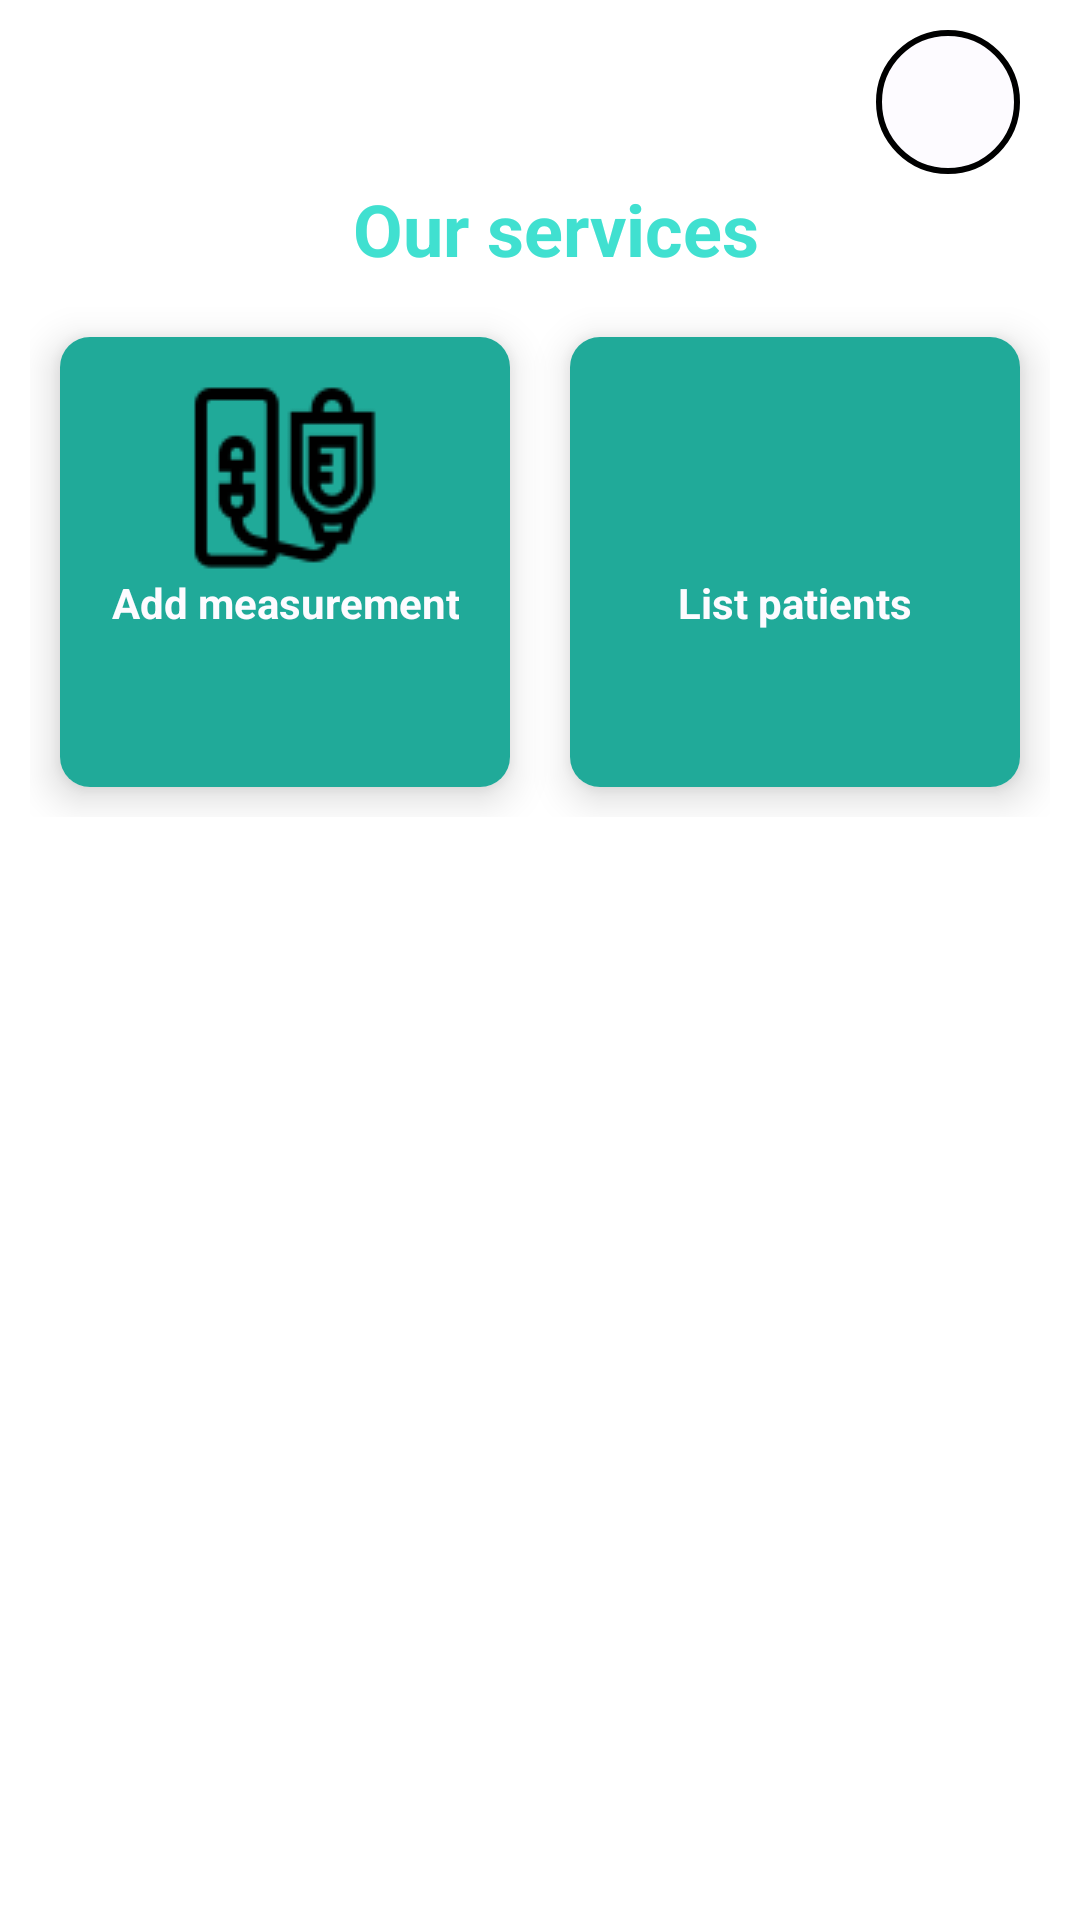

Locate icon controls on the screen. Image size 1080px x 1920px, boxes as (x1, y1, x2, y2).
medical: (194, 387, 376, 569)
